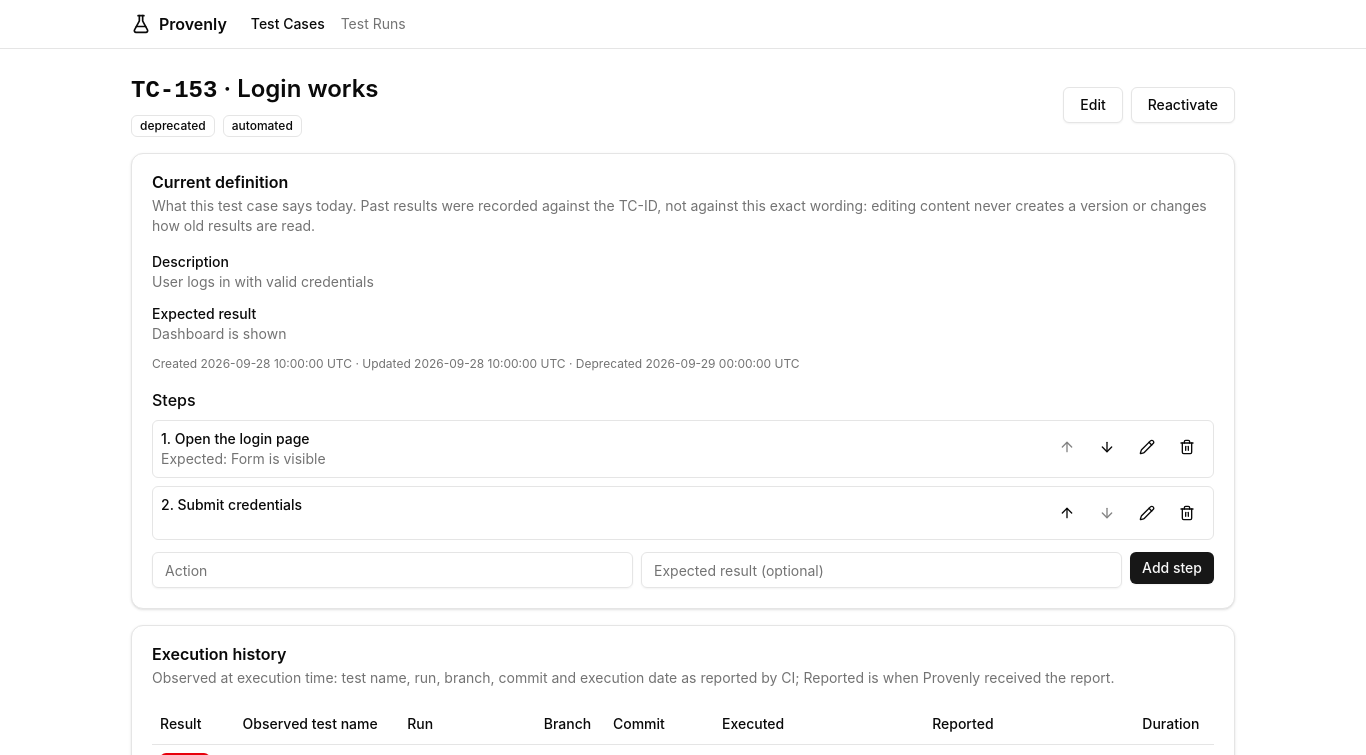
FE-INT-005 deprecate › FE-INT-005 reactivates a deprecated test case with the same TC-ID
Step 1. Click the button "Reactivate" → (1183, 105), box top-left (1131, 87), bottom-right (1235, 123)
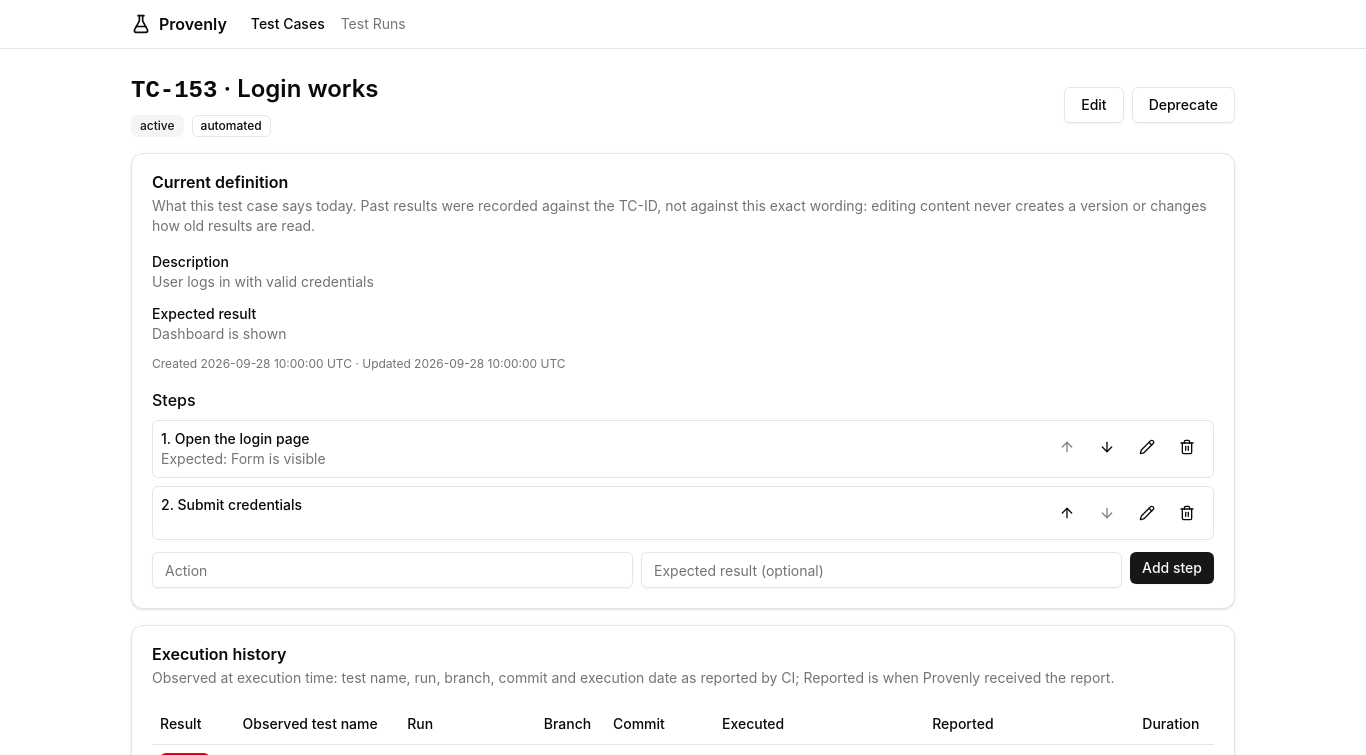
Expected: the button "Deprecate" is shown, top-left (1132, 87), bottom-right (1235, 123)
